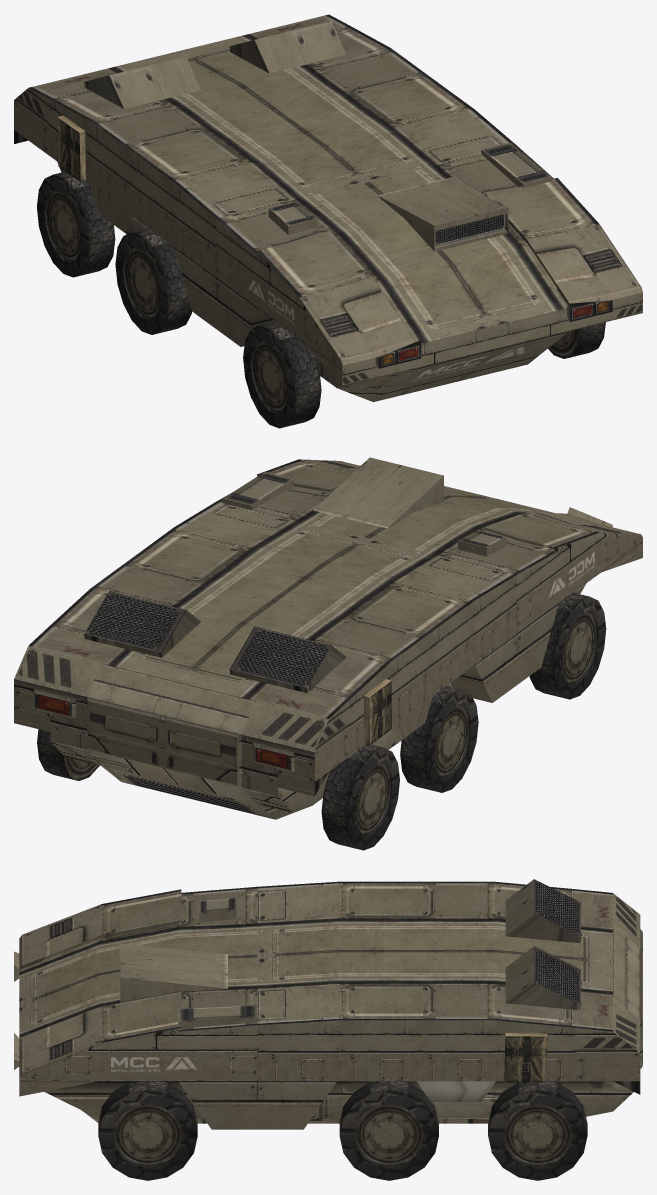
File: cavelion.dae
3 views of the same model, one above another, from view 1: azimuth 30°, elevation 25°; view 2: azimuth 150°, elevation 25°; view 3: azimuth 270°, elevation 25° (orthographic). The views are drawn at different scales.
Parts seen in each view (by area): view 1: cave_lion; view 2: cave_lion; view 3: cave_lion.
Boxes of the visible parts, left/top/right/bottom form: cave_lion: left=14, top=14, right=642, bottom=428; cave_lion: left=14, top=457, right=642, bottom=850; cave_lion: left=14, top=879, right=642, bottom=1180.
Bounding box in the file's own units: 9.65 × 17.84 × 5.6.
